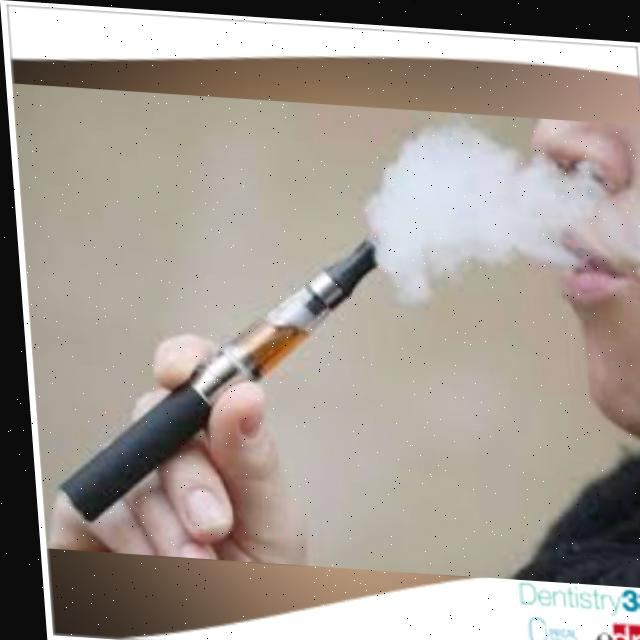vape: (31, 216, 396, 542)
